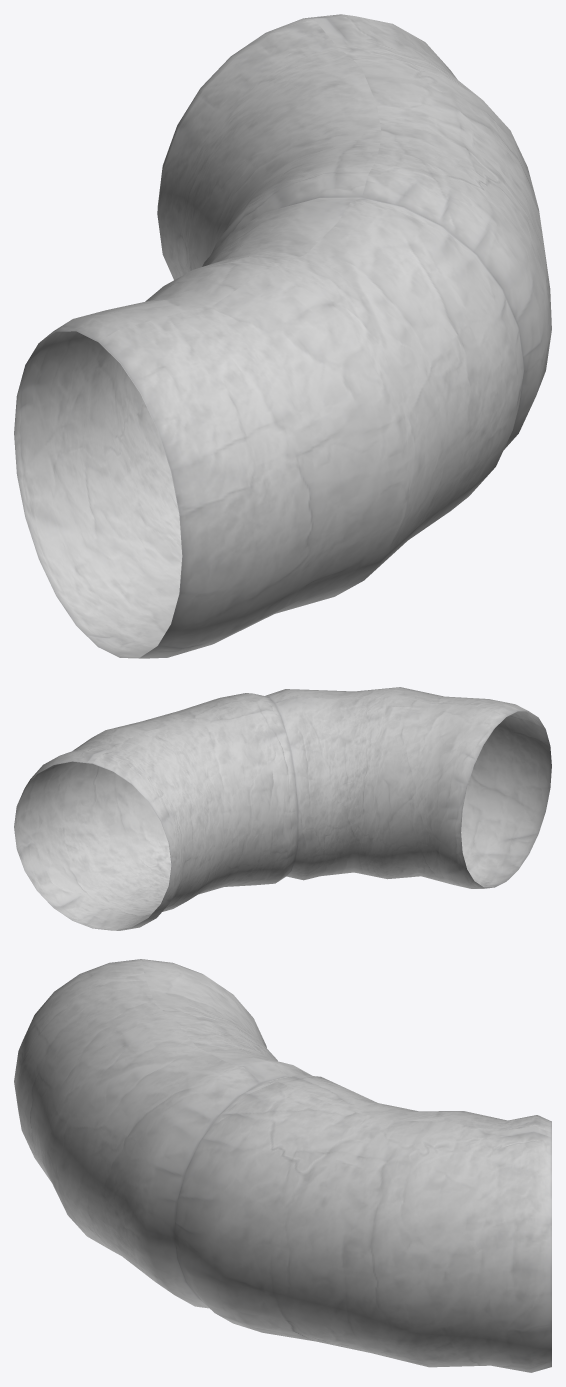
File: Subway_Pipe_foil2.fbx
3 views of the same model, one above another, from view 1: azimuth 30°, elevation 25°; view 2: azimuth 150°, elevation 25°; view 3: azimuth 270°, elevation 25° (orthographic). The views are drawn at different scales.
Visible parts, largest first — view 1: pCylinder11; view 2: pCylinder11; view 3: pCylinder11.
Boxes of the visible parts, box(x1,y1,x2,y2) form: pCylinder11: box(14, 14, 551, 658); pCylinder11: box(14, 687, 551, 930); pCylinder11: box(14, 959, 551, 1372).
Bounding box in the file's own units: 131 × 63.86 × 131.
